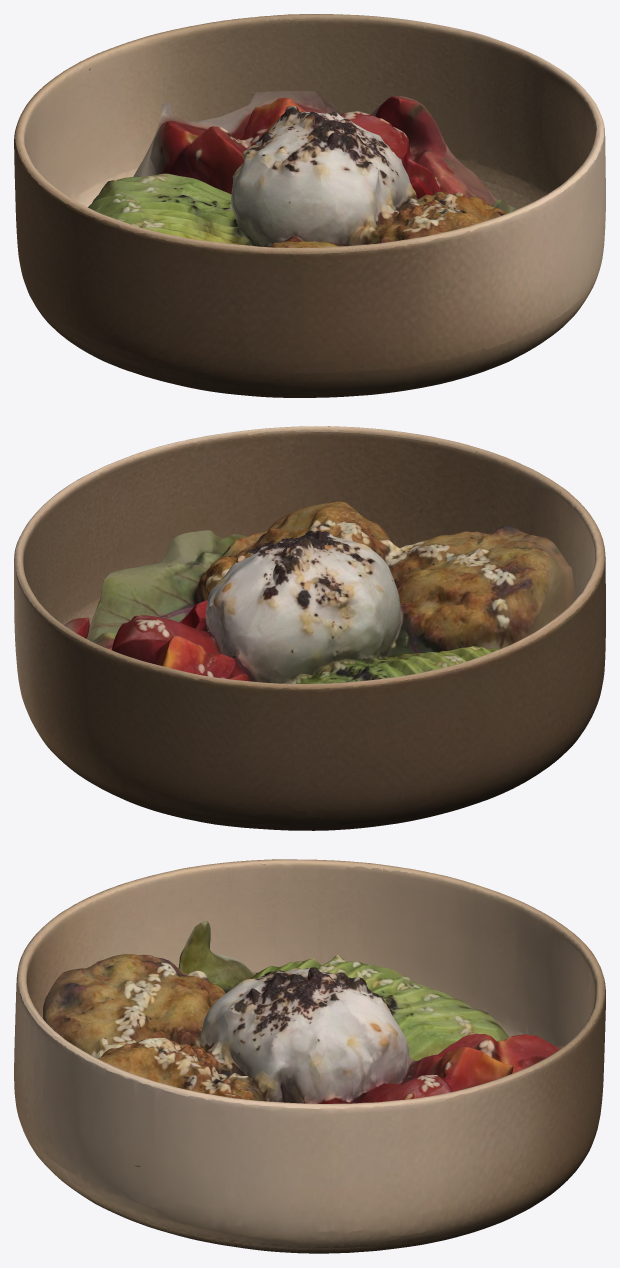
File: set.bowle.with.crispy003.glb
3 views of the same model, one above another, from view 1: azimuth 30°, elevation 25°; view 2: azimuth 150°, elevation 25°; view 3: azimuth 270°, elevation 25° (orthographic).
Visible parts, largest first — view 1: /Root/Scenes/Scene/Object_37/Object_39/Object_40/Submesh_0, /Root/Scenes/Scene/Object_37/Object_38/Submesh_0; view 2: /Root/Scenes/Scene/Object_37/Object_39/Object_40/Submesh_0, /Root/Scenes/Scene/Object_37/Object_38/Submesh_0; view 3: /Root/Scenes/Scene/Object_37/Object_39/Object_40/Submesh_0, /Root/Scenes/Scene/Object_37/Object_38/Submesh_0.
Boxes of the visible parts, x1,y1,x2,y2 form: /Root/Scenes/Scene/Object_37/Object_39/Object_40/Submesh_0: [14, 14, 605, 397]; /Root/Scenes/Scene/Object_37/Object_38/Submesh_0: [88, 68, 604, 247]; /Root/Scenes/Scene/Object_37/Object_39/Object_40/Submesh_0: [14, 426, 605, 830]; /Root/Scenes/Scene/Object_37/Object_38/Submesh_0: [64, 501, 574, 683]; /Root/Scenes/Scene/Object_37/Object_39/Object_40/Submesh_0: [14, 859, 605, 1253]; /Root/Scenes/Scene/Object_37/Object_38/Submesh_0: [43, 921, 563, 1166].
Size of the model in its own units: 0.2045 by 0.0718 by 0.2051.
2 materials, 2 textured.
